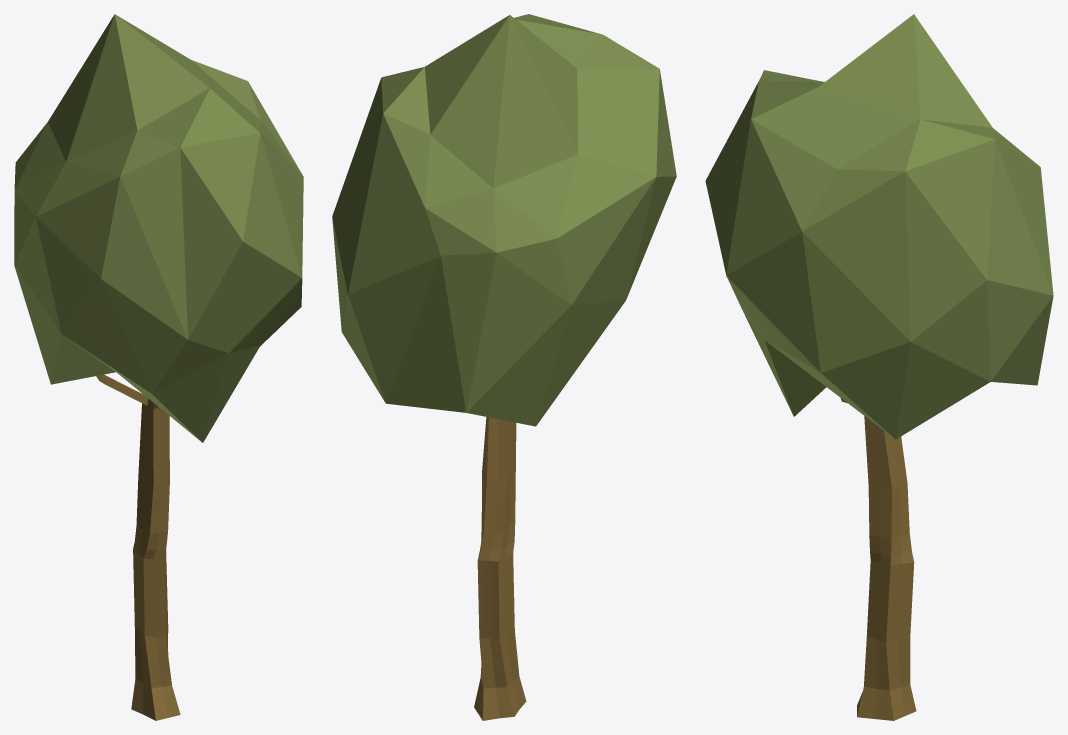
The model's file is small_tree_3.fbx.
3 renders of one model, left to right at view 1: azimuth 30°, elevation 25°; view 2: azimuth 150°, elevation 25°; view 3: azimuth 270°, elevation 25°, orthographic. The views are drawn at different scales.
Visible parts, largest first — view 1: Cylinder.001; view 2: Cylinder.001; view 3: Cylinder.001.
Boxes of the visible parts, left/top/right/bottom form: Cylinder.001: left=14, top=14, right=303, bottom=720; Cylinder.001: left=332, top=14, right=676, bottom=720; Cylinder.001: left=705, top=14, right=1053, bottom=720.
Size of the model in its own units: 191 by 476 by 219.
